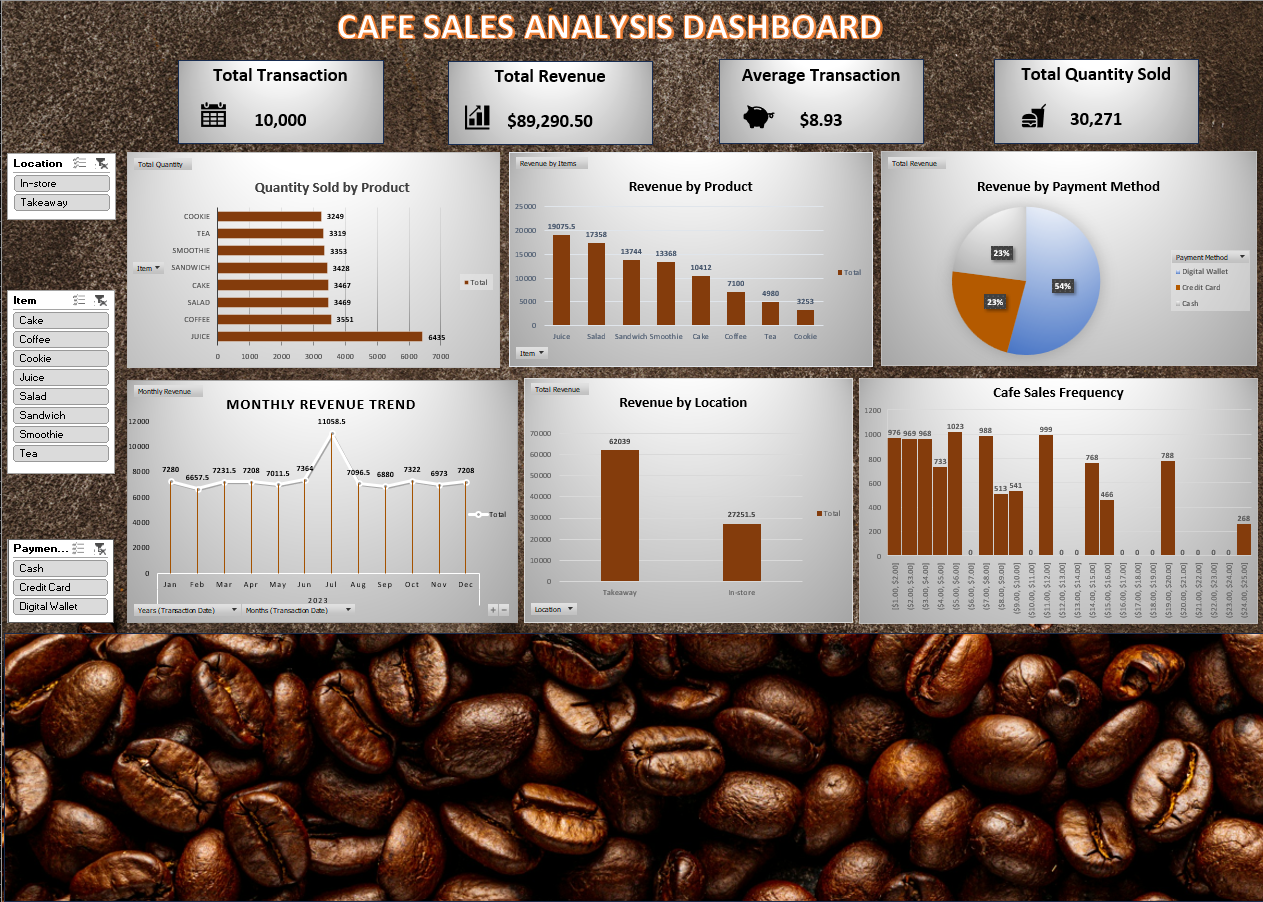

This screenshot's page, from the dashboard's own definition file:
{"tool":"powerbi","page":{"name":"Dashboard","canvas":[1280,720],"ordinal":0},"visuals":[{"type":"textbox","box":[0,0,1280,54.4],"z":0},{"type":"card","fields":{"Values":["CafeSales.Total Revenue"]},"box":[186.7,66.7,204.4,87.8],"z":1000},{"type":"card","fields":{"Values":["CafeSales.Total Quantity"]},"box":[630,66.7,186.7,87.8],"z":2000},{"type":"card","fields":{"Values":["CafeSales.Total Transaction"]},"box":[410,66.7,203.3,87.8],"z":3000},{"type":"card","fields":{"Values":["CafeSales.Average Transaction Value"]},"box":[835.6,65.6,207.8,87.8],"z":4000},{"type":"card","fields":{"Values":["CafeSales.Average Quantity per Transaction"]},"box":[1062.2,65.6,207.8,87.8],"z":5000},{"type":"lineChart","title":"Monthly Revenue Trend","fields":{"Category":["DateTable.Month Year"],"Y":["CafeSales.Total Revenue"]},"box":[186.7,165.6,593.3,276.7],"z":6000},{"type":"clusteredBarChart","fields":{"Category":["CafeSales.Item"],"Y":["CafeSales.Total Revenue"]},"box":[790,165.6,480,276.7],"z":7000},{"type":"clusteredBarChart","title":"Quantity Sold by Item","fields":{"Category":["CafeSales.Item"],"Y":["CafeSales.Total Quantity"]},"box":[186.7,452.2,384.4,256.7],"z":8000},{"type":"donutChart","title":"Revenue by Payment Method","fields":{"Category":["CafeSales.Payment Method","CafeSales.Location"],"Y":["CafeSales.Total Revenue"]},"box":[576.7,452.2,374.4,256.7],"z":9000},{"type":"clusteredColumnChart","title":"Revenue by Location","fields":{"Category":["CafeSales.Location"],"Y":["CafeSales.Total Revenue"]},"box":[957.8,452.2,312.2,256.7],"z":10000},{"type":"slicer","fields":{"Values":["CafeSales.Item"]},"box":[6.7,66.7,170,86.7],"z":11000},{"type":"slicer","fields":{"Values":["DateTable.Date"]},"box":[6.7,188.9,170,138.9],"z":12000},{"type":"slicer","fields":{"Values":["CafeSales.Payment Method"]},"box":[6.7,360,172.2,82.2],"z":13000},{"type":"slicer","fields":{"Values":["CafeSales.Location"]},"box":[6.7,488.9,172.2,87.8],"z":14000},{"type":"slicer","fields":{"Values":["CafeSales.Transaction Type"]},"box":[6.7,621.1,172.2,87.8],"z":15000}]}

Visuals, with their boxes on the page's 1280x720 design canvas (x1, y1, x2, y2). These are canvas units, not pixel positions in the 1263x902 screenshot, which may show the page scaled, cropped or inside an application window:
textbox: rect(0, 0, 1280, 54)
card - CafeSales.Total Revenue: rect(187, 67, 391, 154)
card - CafeSales.Total Quantity: rect(630, 67, 817, 154)
card - CafeSales.Total Transaction: rect(410, 67, 613, 154)
card - CafeSales.Average Transaction Value: rect(836, 66, 1043, 153)
card - CafeSales.Average Quantity per Transaction: rect(1062, 66, 1270, 153)
"Monthly Revenue Trend" lineChart: rect(187, 166, 780, 442)
clusteredBarChart - CafeSales.Item x CafeSales.Total Revenue: rect(790, 166, 1270, 442)
"Quantity Sold by Item" clusteredBarChart: rect(187, 452, 571, 709)
"Revenue by Payment Method" donutChart: rect(577, 452, 951, 709)
"Revenue by Location" clusteredColumnChart: rect(958, 452, 1270, 709)
slicer - CafeSales.Item: rect(7, 67, 177, 153)
slicer - DateTable.Date: rect(7, 189, 177, 328)
slicer - CafeSales.Payment Method: rect(7, 360, 179, 442)
slicer - CafeSales.Location: rect(7, 489, 179, 577)
slicer - CafeSales.Transaction Type: rect(7, 621, 179, 709)
